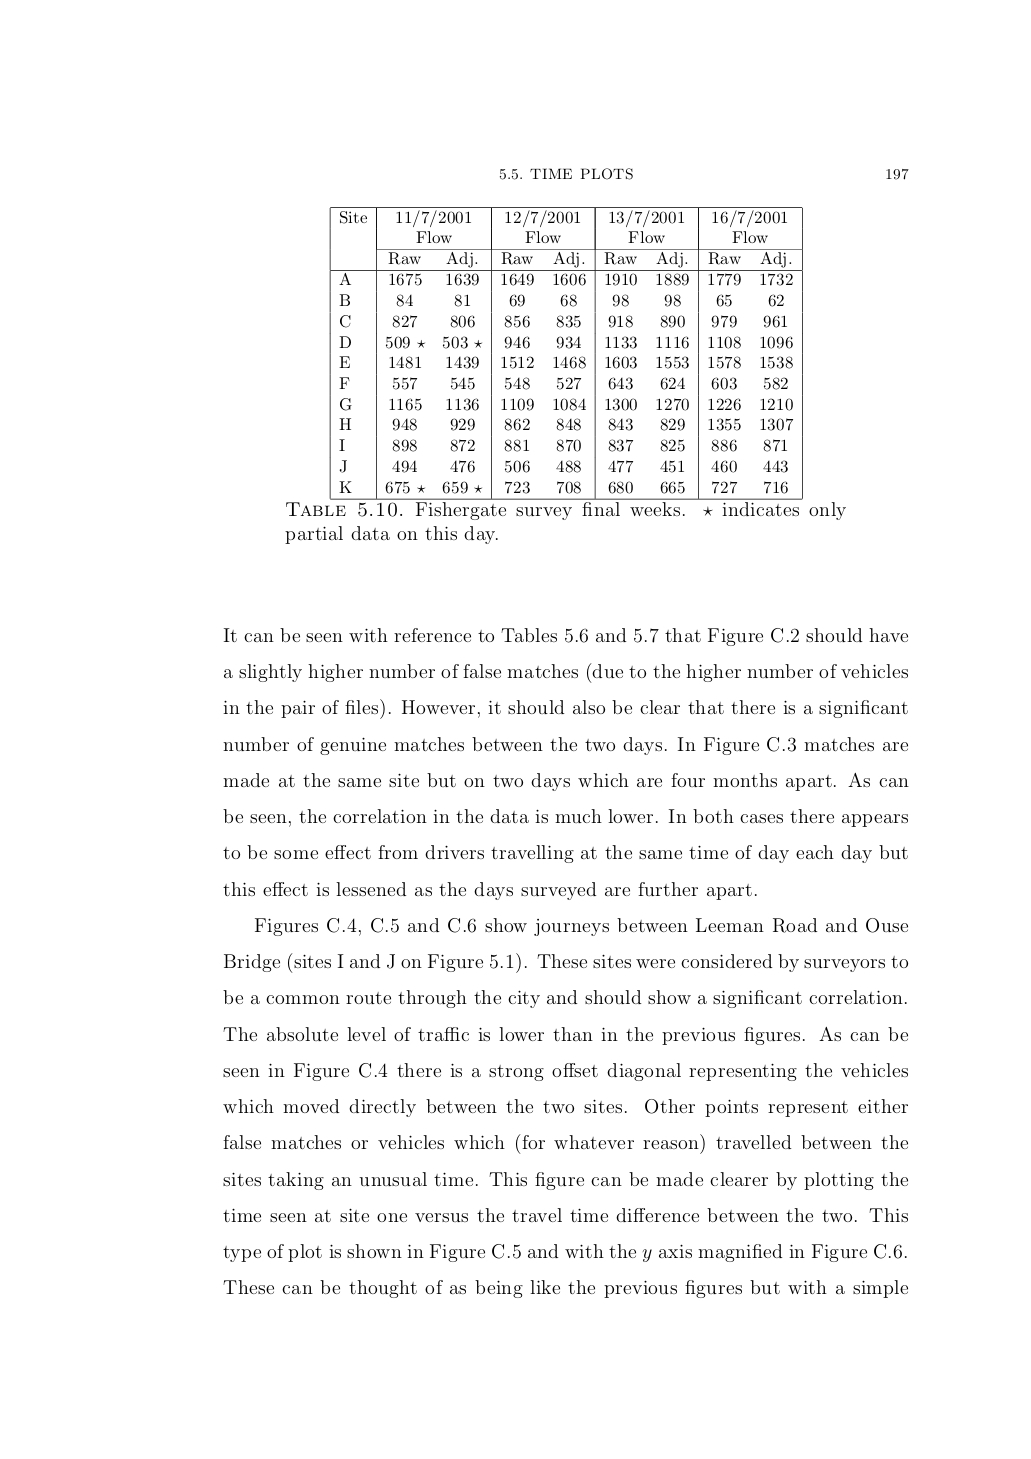Table: (329, 207, 802, 503)
